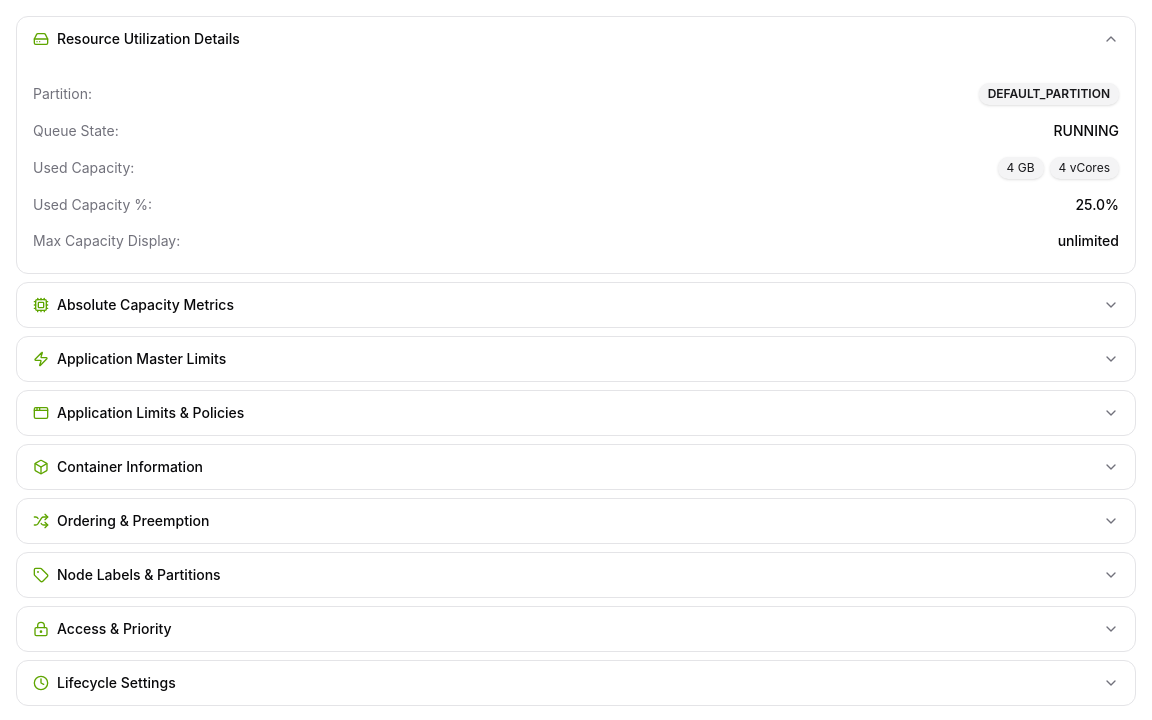
Test: QueueInfoTab › Ordering & Preemption section › should display preemption status as enabled badge
Click the button "Ordering & Preemption" at x=133, y=520, box top-left (17, 499), bottom-right (1135, 543)
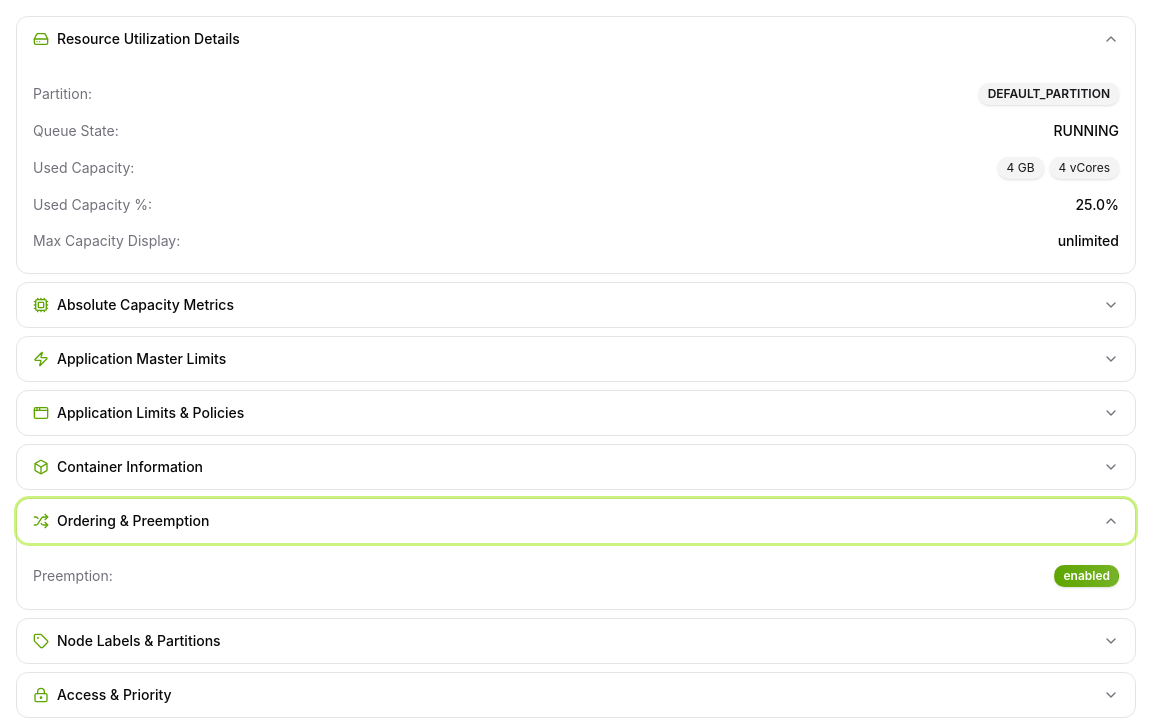
Result: the text "enabled" is shown at top-left (1054, 565), bottom-right (1119, 587)
